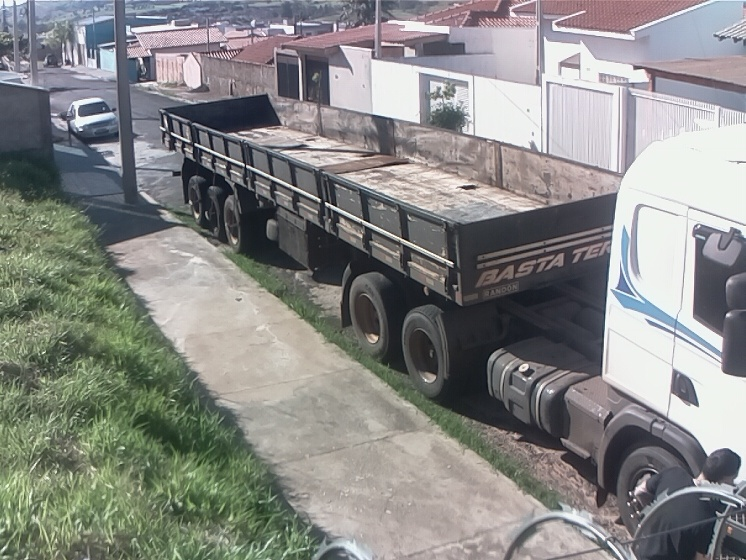person: (627, 447, 743, 560)
